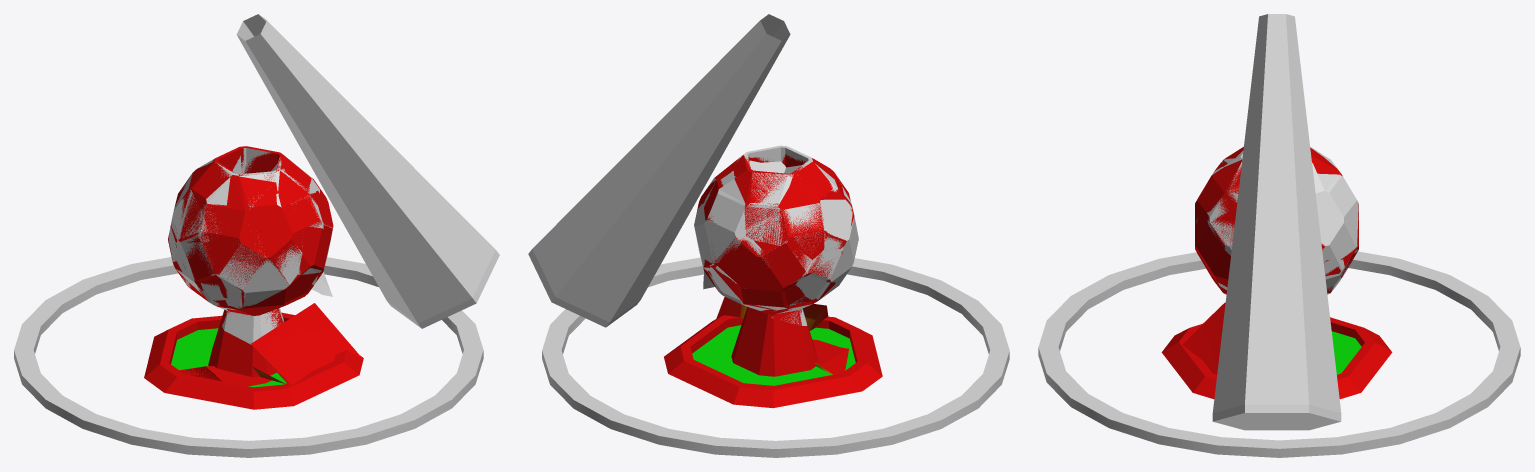
Rendered from LightWell.fbx.
3 renders of one model, left to right at view 1: azimuth 30°, elevation 25°; view 2: azimuth 150°, elevation 25°; view 3: azimuth 270°, elevation 25°, orthographic. The views are drawn at different scales.
Visible parts, largest first — view 1: Collector, ReflectorBeam, Rail, Reflector01; view 2: Collector, ReflectorBeam, Rail, Reflector01; view 3: ReflectorBeam, Rail, Collector, Reflector01.
Boxes of the visible parts, left/top/right/bottom form: Collector: left=144, top=146, right=363, bottom=409; ReflectorBeam: left=236, top=14, right=495, bottom=323; Rail: left=14, top=257, right=483, bottom=457; Reflector01: left=387, top=250, right=499, bottom=328; Collector: left=664, top=145, right=882, bottom=407; ReflectorBeam: left=532, top=14, right=790, bottom=322; Rail: left=542, top=257, right=1009, bottom=457; Reflector01: left=528, top=249, right=640, bottom=327; ReflectorBeam: left=1212, top=14, right=1341, bottom=412; Rail: left=1038, top=251, right=1520, bottom=457; Collector: left=1161, top=146, right=1392, bottom=399; Reflector01: left=1212, top=404, right=1341, bottom=430.
Bounding box in the file's own units: 12.91 × 9.64 × 12.
